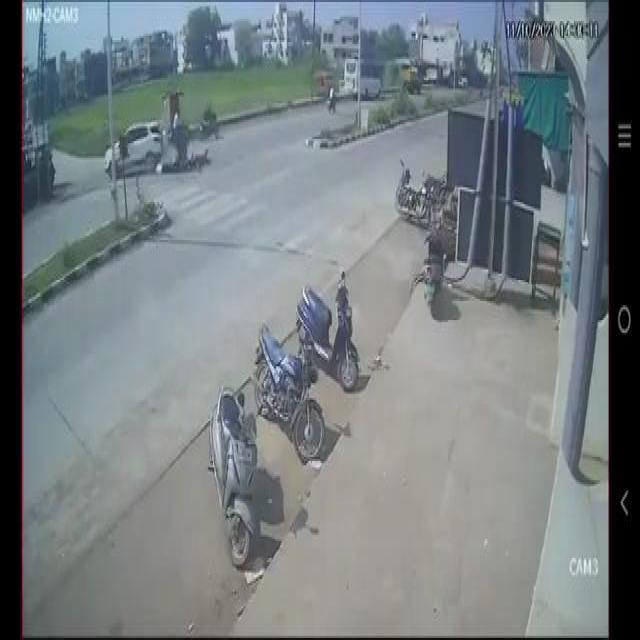accident: (102, 105, 214, 194)
